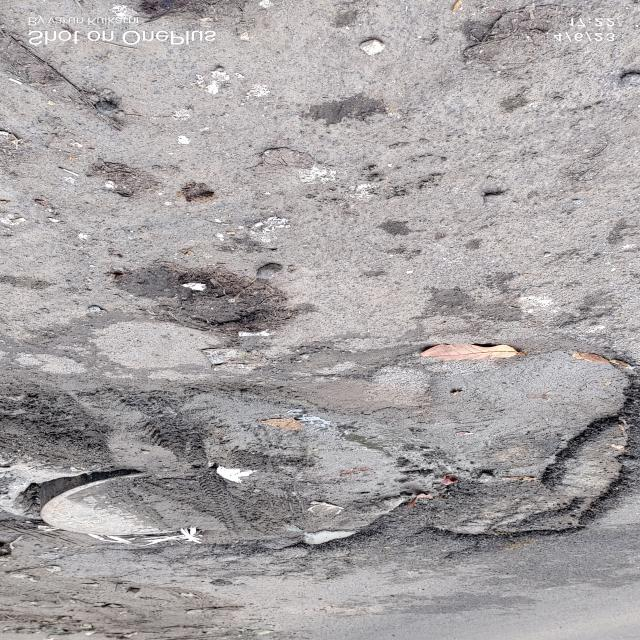potholes: (3, 315, 640, 568)
